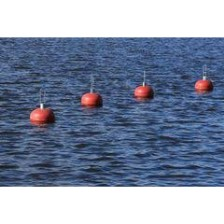buoy: (29, 105, 55, 125), (80, 92, 101, 108), (134, 84, 154, 99), (193, 78, 213, 92)
